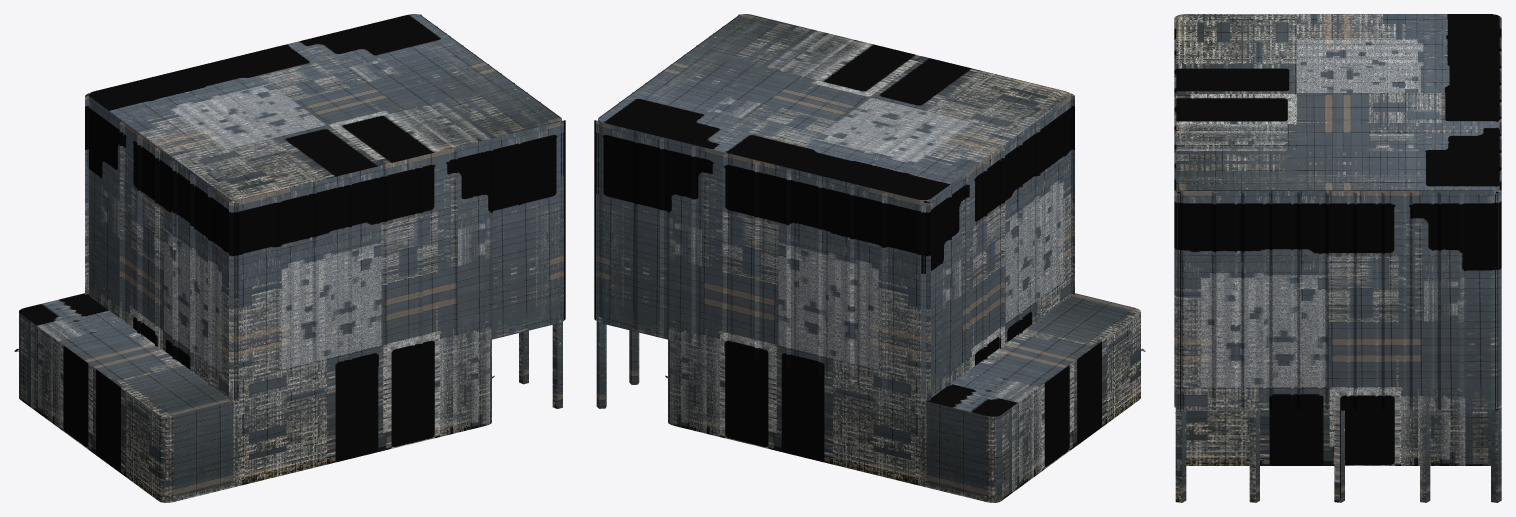
File: ShiftedOverhangBuilding.fbx
3 renders of one model, left to right at view 1: azimuth 30°, elevation 25°; view 2: azimuth 150°, elevation 25°; view 3: azimuth 270°, elevation 25°, orthographic. The views are drawn at different scales.
Visible parts, largest first — view 1: Cube.008; view 2: Cube.008; view 3: Cube.008.
Part boxes in pixels (x1,y1,x2,y2): Cube.008: (14, 14, 565, 502); Cube.008: (594, 14, 1145, 502); Cube.008: (1174, 14, 1501, 502).
Bounding box in the file's own units: 251 × 168 × 160.
1 material, 1 textured.
